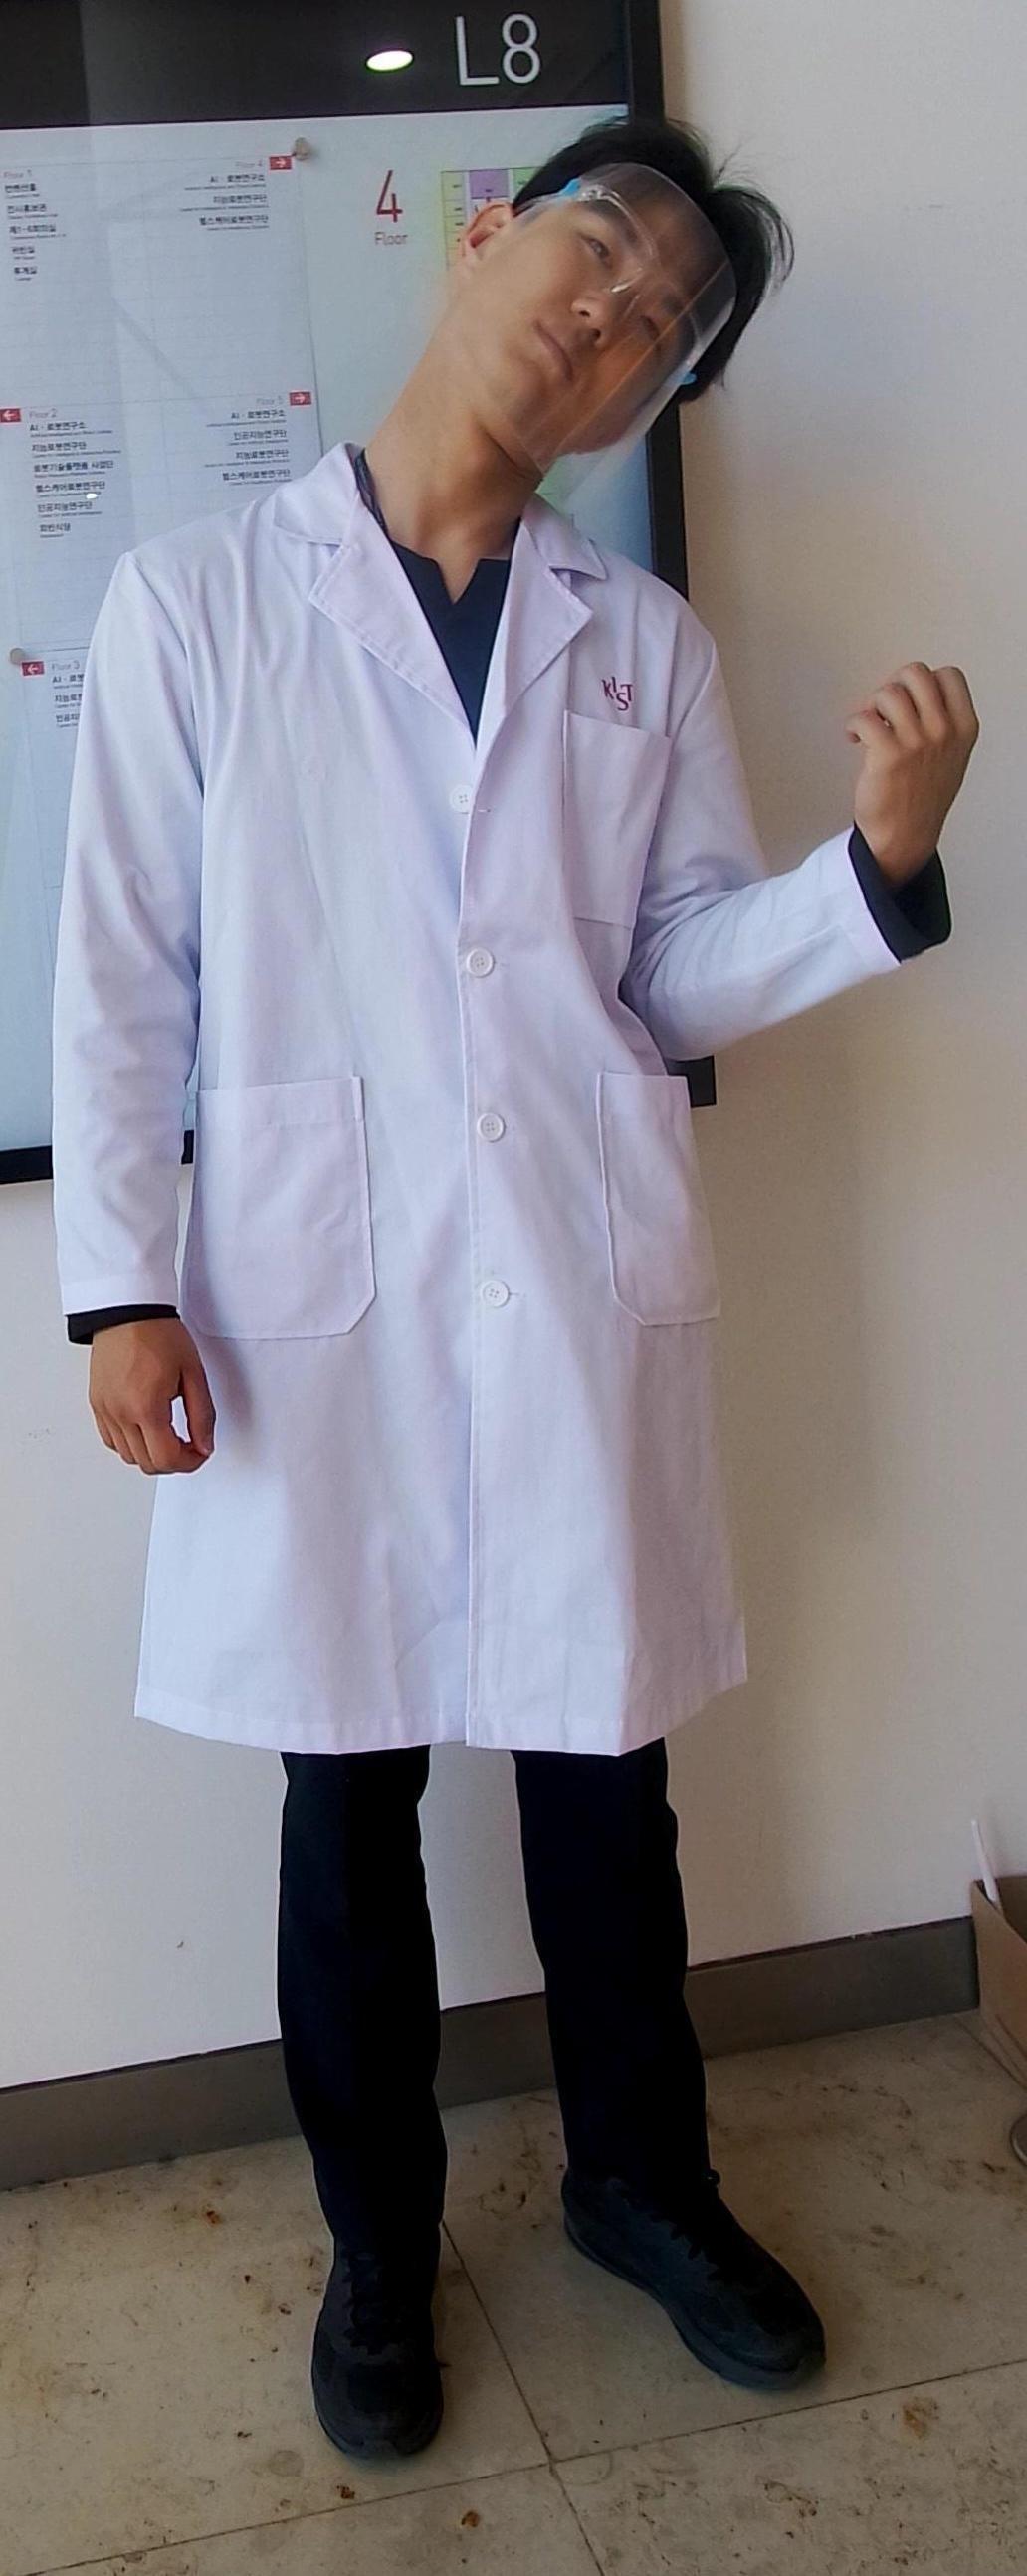lab_coat: (176, 501, 684, 1715)
